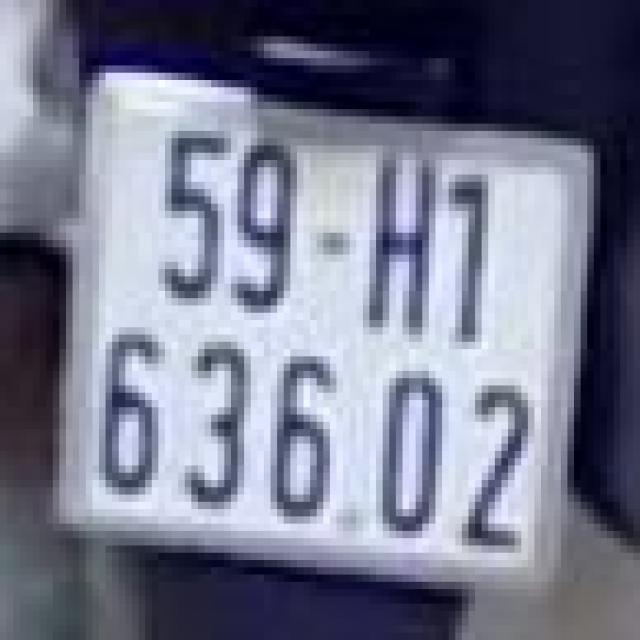0: (369, 367, 448, 542)
1: (449, 167, 488, 342)
2: (455, 374, 541, 556)
3: (184, 338, 250, 513)
5: (158, 120, 231, 302)
6: (92, 331, 172, 505), (264, 345, 343, 520)
9: (238, 145, 304, 320)
H: (359, 153, 438, 334)
